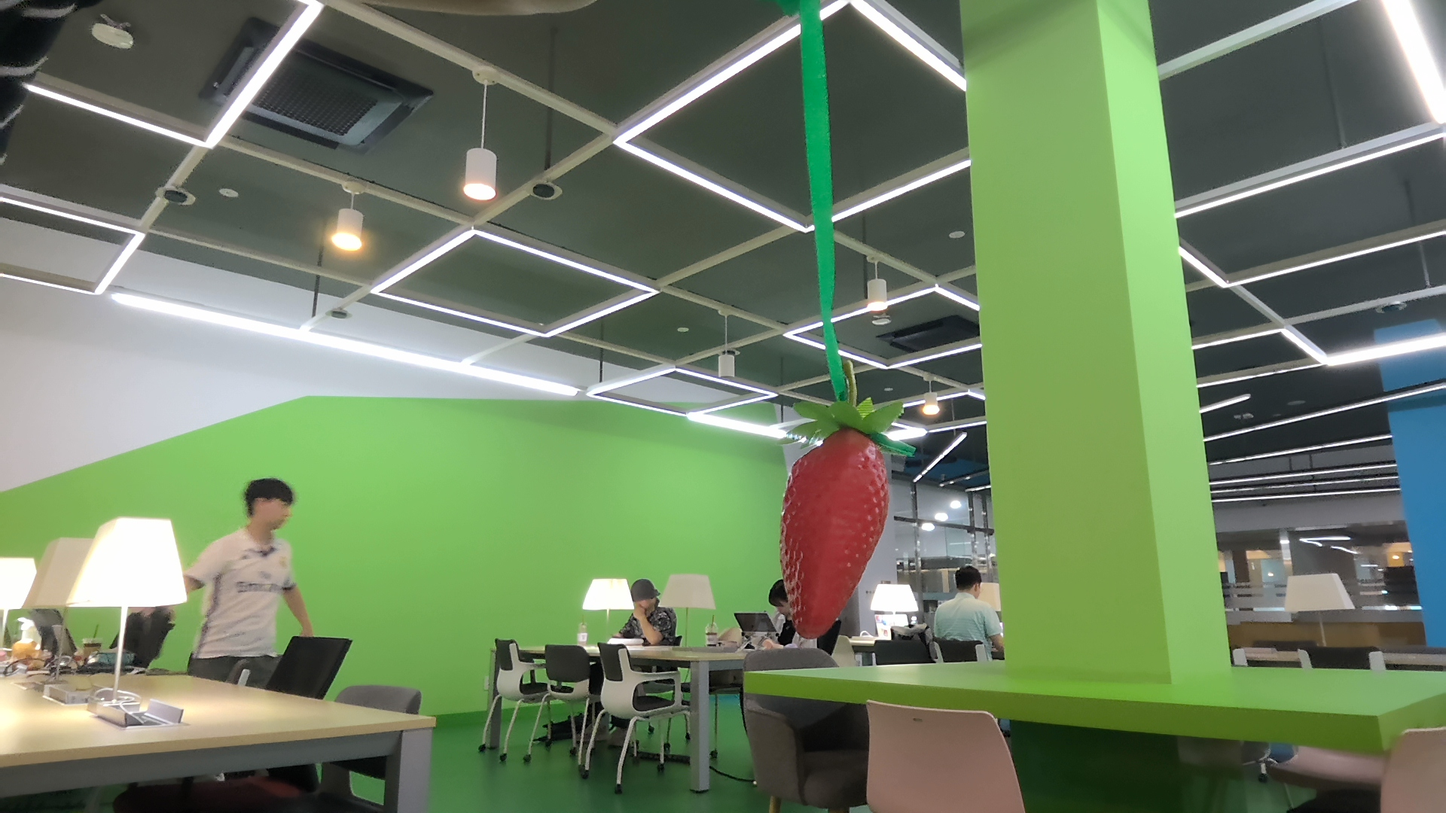strawberry: (776, 414, 897, 641)
